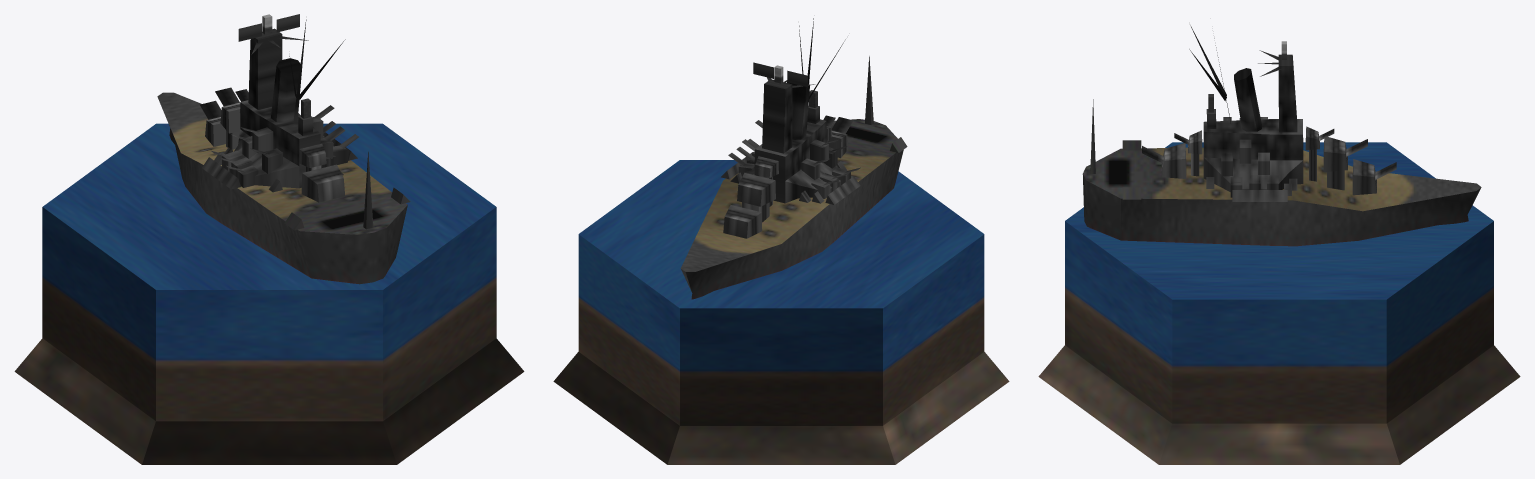
Rendered from list.ico.obj.
3 renders of one model, left to right at view 1: azimuth 30°, elevation 25°; view 2: azimuth 150°, elevation 25°; view 3: azimuth 270°, elevation 25°, orthographic. The views are drawn at different scales.
Size of the model in its own units: 4.12 by 3.95 by 4.76.
Materials: 1 (1 with a texture image).
